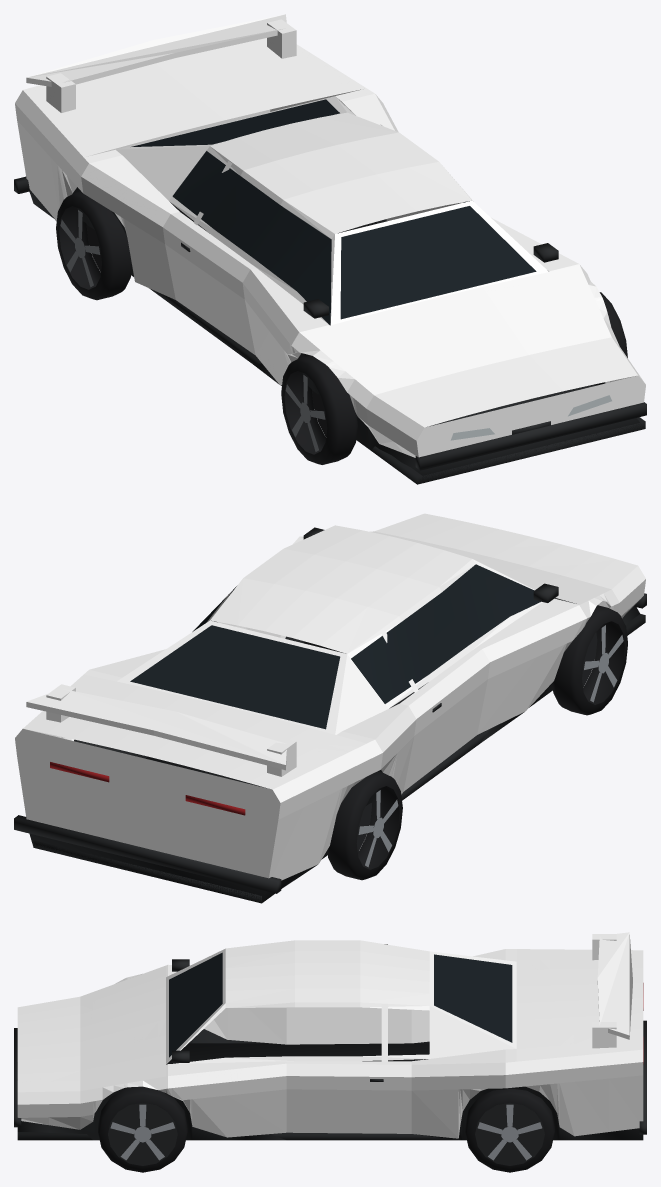
The model's file is taurenza_basalto.glb.
The picture shows the model from 3 angles, top to bottom: view 1: azimuth 30°, elevation 25°; view 2: azimuth 150°, elevation 25°; view 3: azimuth 270°, elevation 25°; orthographic projection. The views are drawn at different scales.
Parts seen in each view (by area): view 1: Body_Paint, Body_Details, Mount_FrontLeft_Wheel_Details, Mount_RearLeft_Wheel_Details; view 2: Body_Paint, Body_Details, Mount_RearLeft_Wheel_Details, Mount_FrontLeft_Wheel_Details; view 3: Body_Paint, Body_Details, Mount_FrontRight_Wheel_Details, Mount_RearRight_Wheel_Details.
Part boxes in pixels (x1,y1,x2,y2): Body_Paint: (15,14,645,457); Body_Details: (14,99,646,484); Mount_FrontLeft_Wheel_Details: (281,355,357,464); Mount_RearLeft_Wheel_Details: (56,191,132,300); Body_Paint: (15,513,645,880); Body_Details: (14,527,646,903); Mount_RearLeft_Wheel_Details: (327,771,402,880); Mount_FrontLeft_Wheel_Details: (552,605,627,715); Body_Paint: (17,932,643,1138); Body_Details: (14,952,646,1140); Mount_FrontRight_Wheel_Details: (98,1086,187,1172); Mount_RearRight_Wheel_Details: (465,1088,554,1172).
Size of the model in its own units: 2.09 by 1.19 by 4.66.
Materials: 2 (1 with a texture image).
